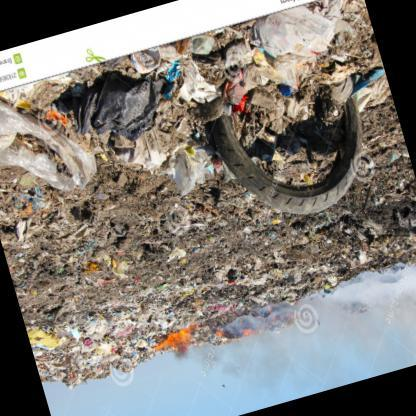Garbage: (0, 191, 127, 384), (0, 70, 116, 234), (293, 180, 415, 289), (38, 58, 166, 158), (226, 0, 351, 90), (150, 133, 223, 226)
